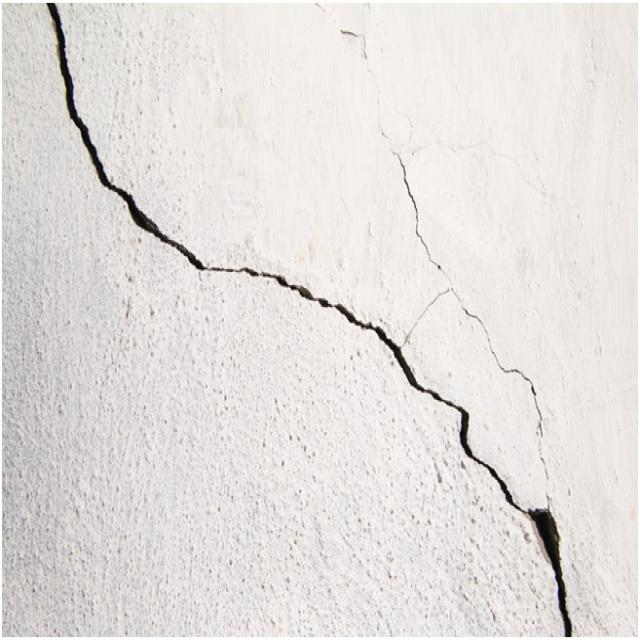Wall_Cracks: (29, 3, 595, 634)
